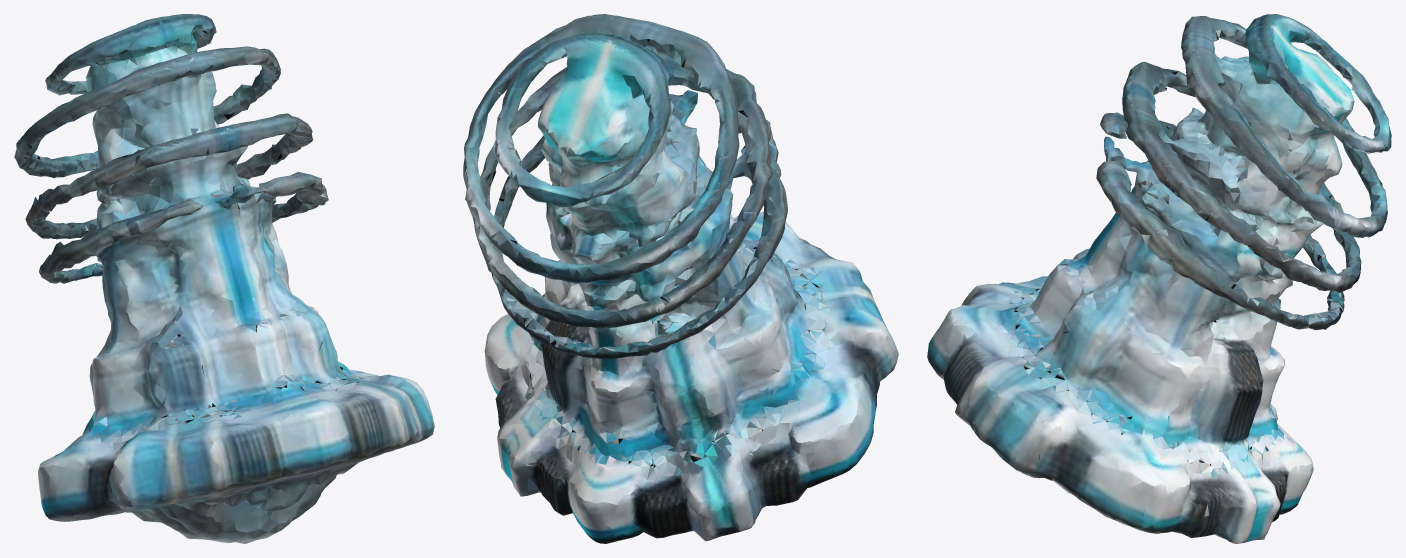
File: nexus_molecular_purifier_1792711940114.glb
3 renders of one model, left to right at view 1: azimuth 30°, elevation 25°; view 2: azimuth 150°, elevation 25°; view 3: azimuth 270°, elevation 25°, orthographic. The views are drawn at different scales.
Parts seen in each view (by area): view 1: geometry_0; view 2: geometry_0; view 3: geometry_0.
Part boxes in pixels (<box>): geometry_0: <box>14,14,434,543</box>; geometry_0: <box>463,14,898,543</box>; geometry_0: <box>927,14,1391,543</box>.
Bounding box in the file's own units: 0.691 × 0.893 × 0.7763.
1 material, 1 textured.
